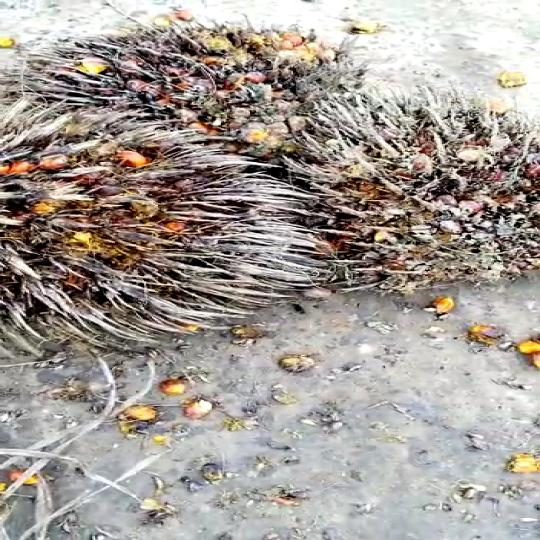terlalu masak: (303, 100, 540, 310), (30, 28, 362, 152)
